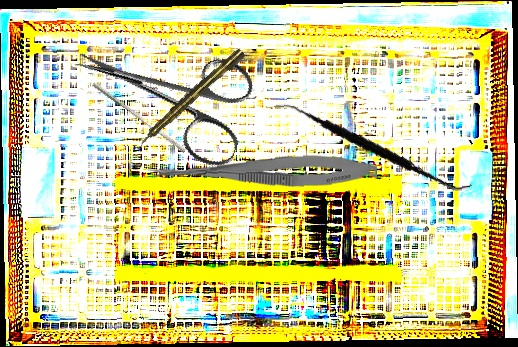Handpiece: (134, 47, 247, 150)
Iris Scissors: (59, 12, 264, 172)
Micro Scissor: (143, 151, 378, 194)
Pusher: (89, 81, 189, 154)
Spatula Surgical: (273, 80, 473, 212)
